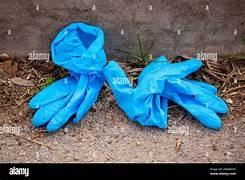Glove: (103, 56, 227, 128), (29, 23, 105, 131)
